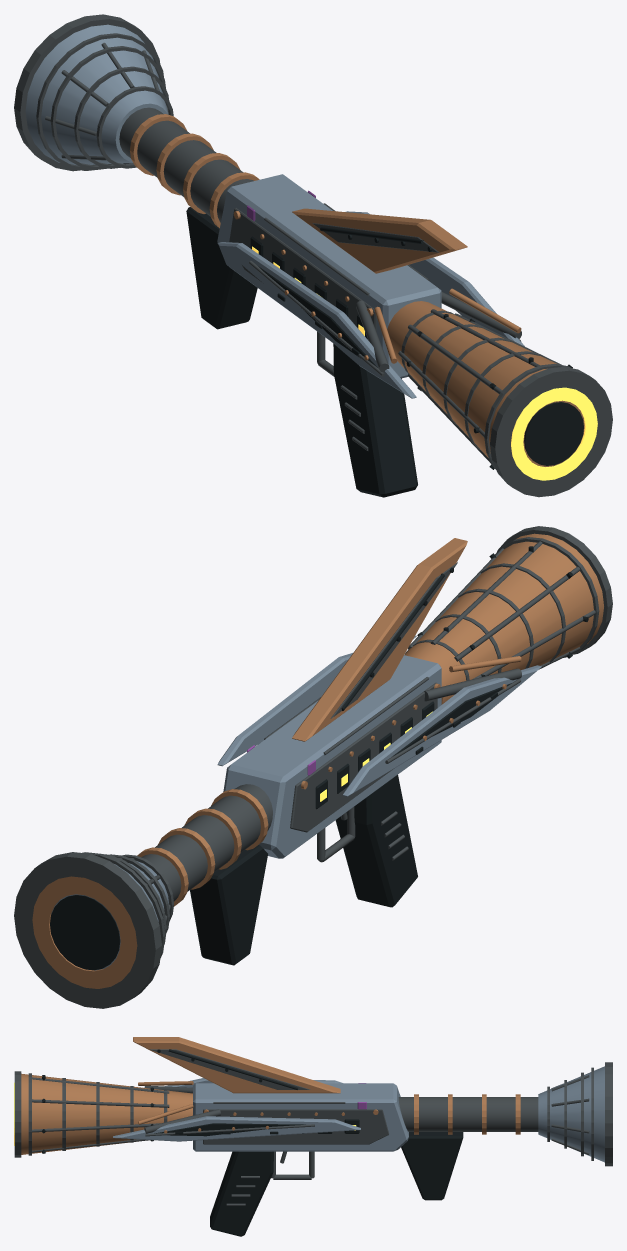
Rendered from kick_3.glb.
3 renders of one model, top to bottom at view 1: azimuth 30°, elevation 25°; view 2: azimuth 150°, elevation 25°; view 3: azimuth 270°, elevation 25°, orthographic. The views are drawn at different scales.
Visible parts, largest first — view 1: Weapon_kick_v1; view 2: Weapon_kick_v1; view 3: Weapon_kick_v1.
Part boxes in pixels (x1=…): Weapon_kick_v1: x1=14, y1=14, x2=612, y2=497; Weapon_kick_v1: x1=14, y1=526, x2=612, y2=1008; Weapon_kick_v1: x1=14, y1=1037, x2=612, y2=1236.
Size of the model in its own units: 0.1551 by 0.3139 by 0.884.
